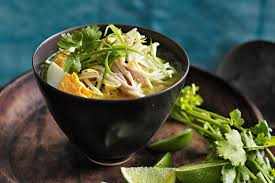soto: (23, 15, 204, 120)
